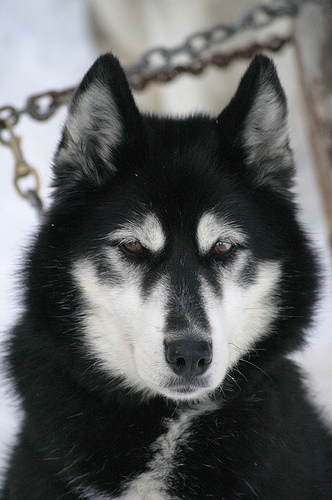dog: (0, 48, 330, 498)
